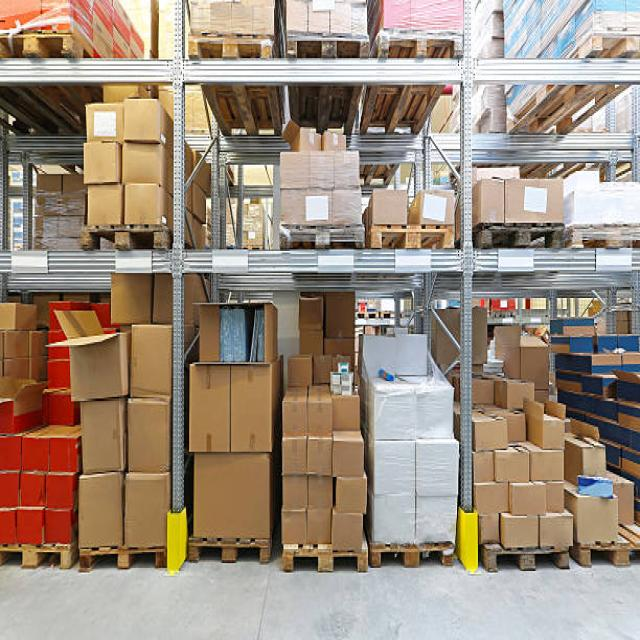Wooden-Pallets: (278, 542, 370, 579), (181, 30, 273, 67), (75, 218, 166, 254), (474, 218, 566, 250), (368, 222, 456, 255), (284, 33, 371, 66), (185, 536, 270, 568), (273, 224, 367, 251), (79, 542, 164, 569), (482, 545, 572, 569), (368, 544, 453, 568)
